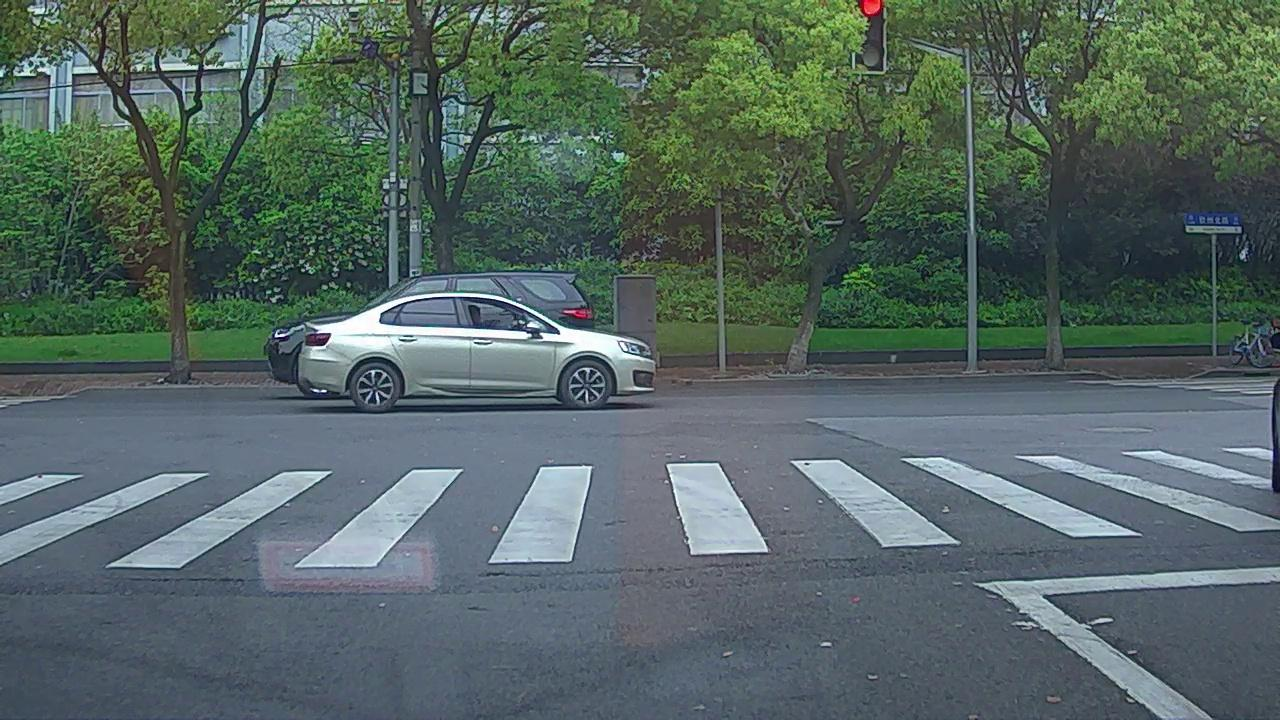traffic_light: (855, 1, 886, 68)
